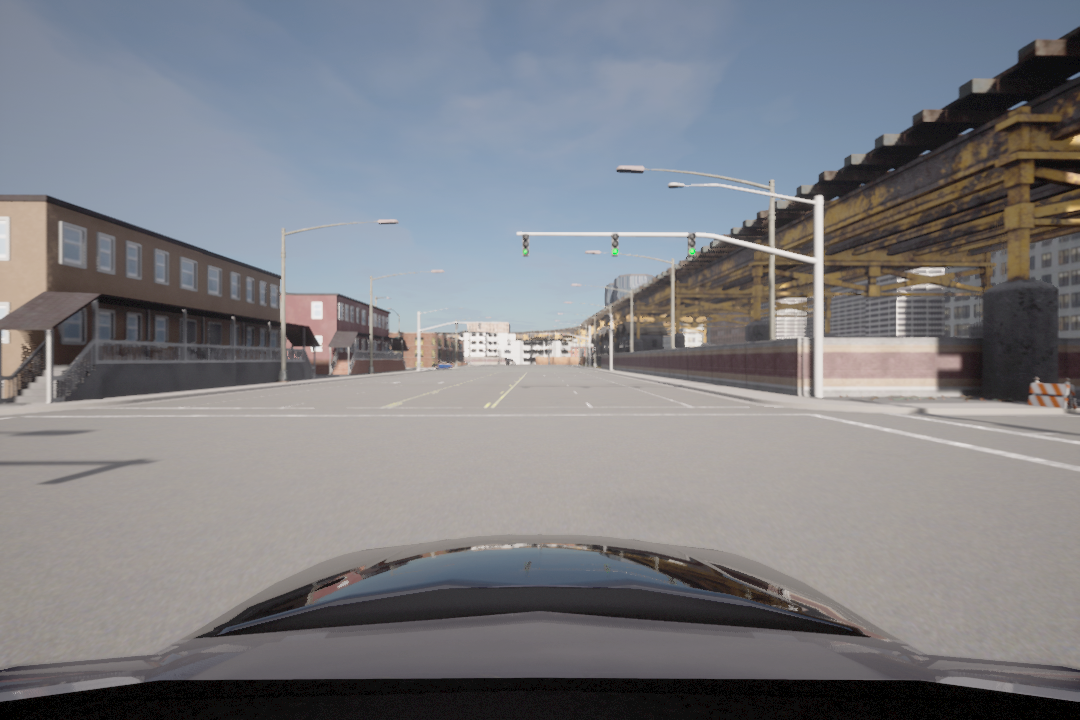TrafficLight: (608, 231, 620, 261), (519, 233, 533, 258), (685, 232, 698, 257)
